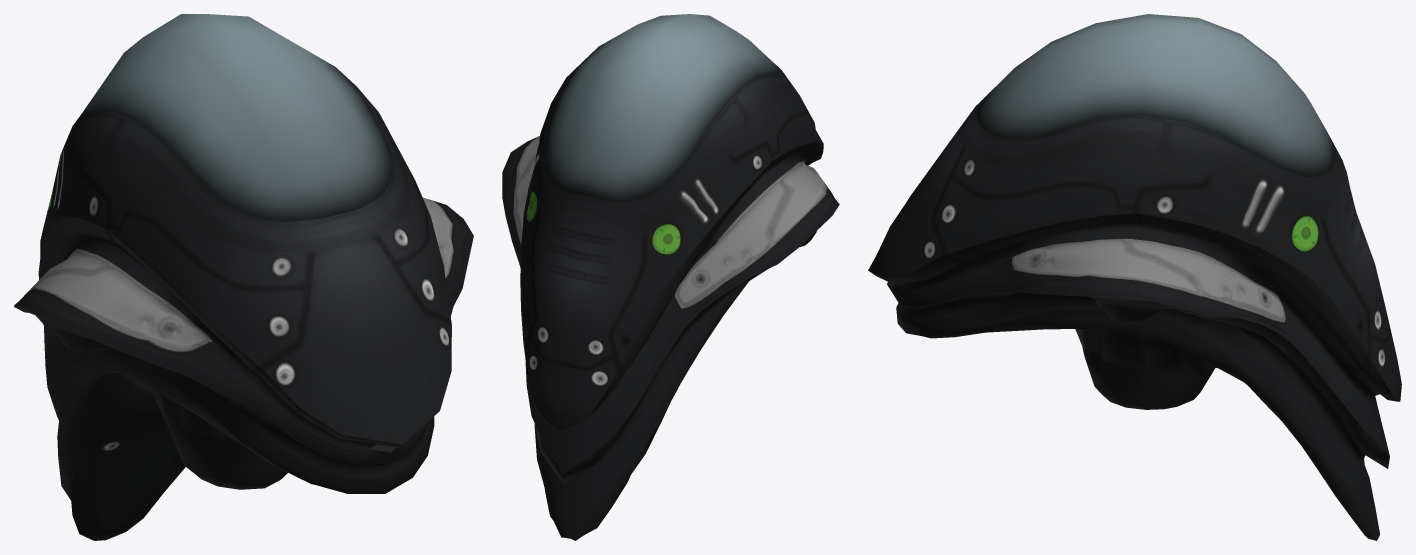
The model's file is spaceship_1.fbx.
3 views of the same model, side by side, from view 1: azimuth 30°, elevation 25°; view 2: azimuth 150°, elevation 25°; view 3: azimuth 270°, elevation 25° (orthographic). The views are drawn at different scales.
Parts seen in each view (by area): view 1: Ship; view 2: Ship; view 3: Ship.
Boxes of the visible parts, <box> form: Ship: <box>14,14,473,540</box>; Ship: <box>502,14,839,540</box>; Ship: <box>868,14,1401,540</box>.
Size of the model in its own units: 8.1 by 11.1 by 10.42.
